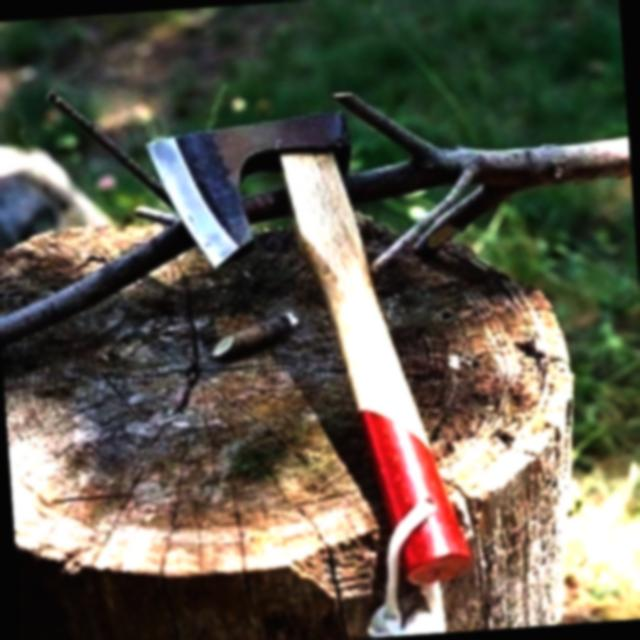ax: (141, 96, 482, 603)
